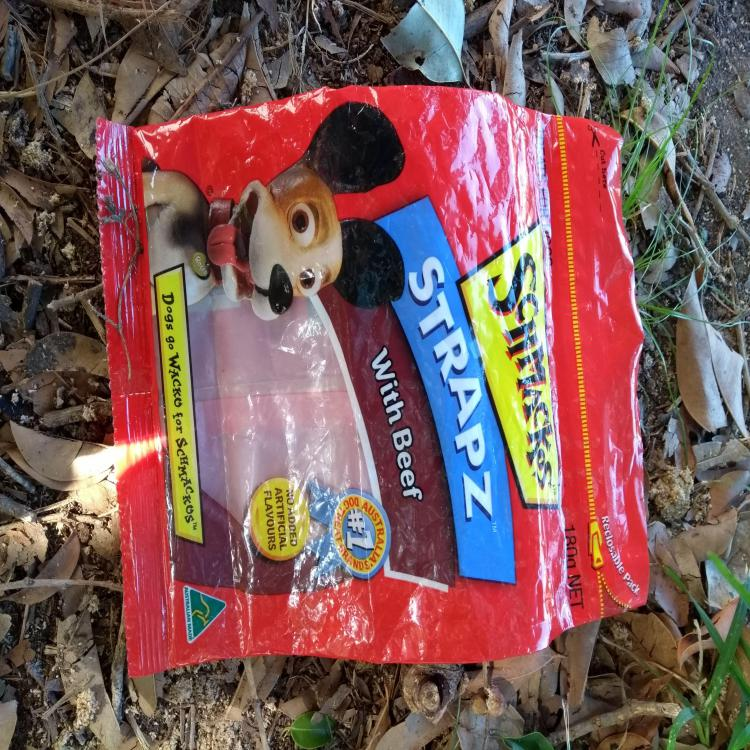Other plastic: (96, 85, 650, 677)
